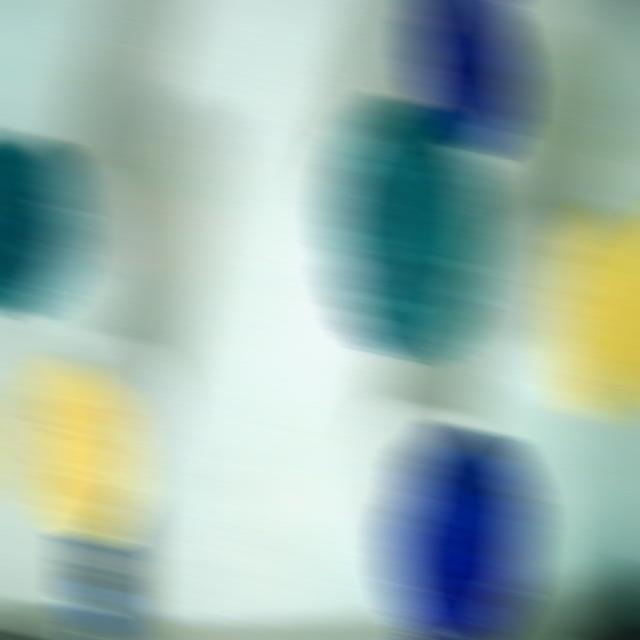blue: (389, 423, 532, 639), (412, 0, 521, 153)
green: (329, 100, 486, 359), (0, 130, 80, 313)
yellow: (19, 359, 136, 542), (549, 206, 639, 421)
